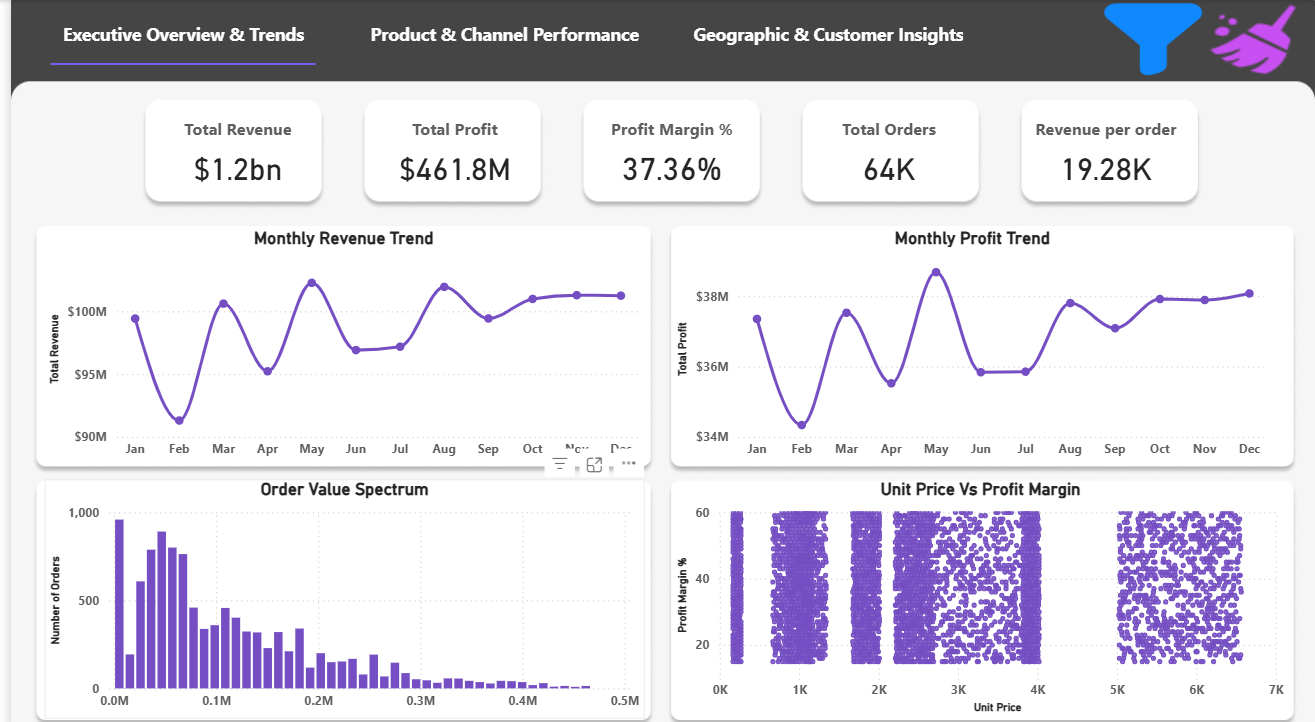

The page's visual inventory and layout, read from the dashboard file:
{"tool":"powerbi","page":{"name":"Executive Overview & Trends","canvas":[1280,720],"ordinal":0},"visuals":[{"type":"actionButton","title":"Executive Overview & Trends","box":[31.9,8.6,274.8,50.3],"z":0},{"type":"actionButton","title":"Executive Overview & Trends","box":[347.2,8.6,274.8,50.3],"z":1000},{"type":"actionButton","title":"Executive Overview & Trends","box":[665,8.6,274.8,50.3],"z":2000},{"type":"cardVisual","fields":{"Data":["Measures__.Total Revenue","Measures__.Total Profit","Measures__.Profit Margin %","Measures__.Total Orders","Measures__.Revenue per order"]},"box":[115.3,88.3,1067.5,121.5],"z":3000},{"type":"lineChart","title":"Monthly Revenue Trend","fields":{"Y":["Measures__.Total Revenue"],"Category":["Sales_data.month_name"]},"box":[32.5,223.5,589.3,235.7],"z":4000},{"type":"lineChart","title":"Monthly Profit Trend","fields":{"Category":["Sales_data.month_name"],"Y":["Measures__.Total Profit"]},"box":[648.9,223.5,589.3,235.7],"z":5000},{"type":"columnChart","title":"Order Value Spectrum","fields":{"Y":["CountNonNull(Order_Value_Distribution.order_number)"],"Category":["Order_Value_Distribution.OrderValue (bins)"]},"box":[33,470,589,236],"z":6000},{"type":"scatterChart","title":"Unit Price Vs Profit Margin","fields":{"X":["Sales_data.unit_price"],"Y":["Sales_data.profit_margin_pct"]},"box":[648.9,470.1,605.6,235.7],"z":7000},{"type":"actionButton","title":"filter","box":[1068.8,0,105.2,76.6],"z":8000},{"type":"actionButton","box":[1174.2,0,94.5,76.1],"z":11000}]}

Visuals, with their boxes in screenshot pixels (x1, y1, x2, y2), scaled from the page's 1280x720 canvas onto the 1315x722 screenshot:
"Executive Overview & Trends" actionButton: l=33, t=9, r=315, b=59
"Executive Overview & Trends" actionButton: l=357, t=9, r=639, b=59
"Executive Overview & Trends" actionButton: l=683, t=9, r=965, b=59
cardVisual - Measures__.Total Revenue x Measures__.Total Profit: l=118, t=89, r=1215, b=210
"Monthly Revenue Trend" lineChart: l=33, t=224, r=639, b=460
"Monthly Profit Trend" lineChart: l=667, t=224, r=1272, b=460
"Order Value Spectrum" columnChart: l=34, t=471, r=639, b=708
"Unit Price Vs Profit Margin" scatterChart: l=667, t=471, r=1289, b=708
"filter" actionButton: l=1098, t=0, r=1206, b=77
actionButton: l=1206, t=0, r=1303, b=76
